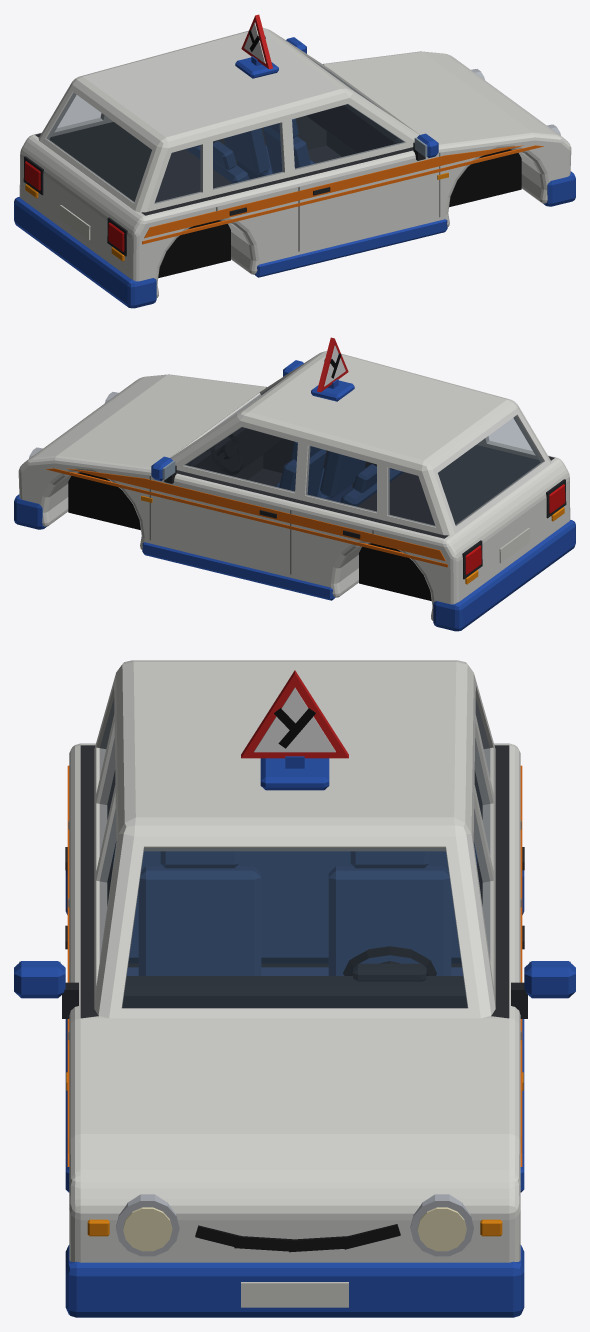
Rendered from learner.glb.
3 views of the same model, one above another, from view 1: azimuth 30°, elevation 25°; view 2: azimuth 150°, elevation 25°; view 3: azimuth 270°, elevation 25° (orthographic). The views are drawn at different scales.
Visible parts, largest first — view 1: Body, Glass, Interior, Details, TailLights; view 2: Body, Glass, Interior, Details, TailLights; view 3: Body, Glass, Interior, Details, HeadLights.
Part boxes in pixels (x1,y1,x2,y2): Body: (14,28,575,308); Glass: (46,57,405,203); Interior: (186,104,403,183); Details: (235,14,438,160); TailLights: (24,161,124,251); Body: (14,351,575,631); Glass: (184,380,543,526); Interior: (186,427,403,506); Details: (151,337,354,483); TailLights: (465,484,565,574); Body: (65,660,524,1317); Glass: (100,699,489,1007); Interior: (112,842,477,1008); Details: (14,670,575,1018); HeadLights: (123,1207,466,1251).
Size of the model in its own units: 4.09 by 1.81 by 2.29.
